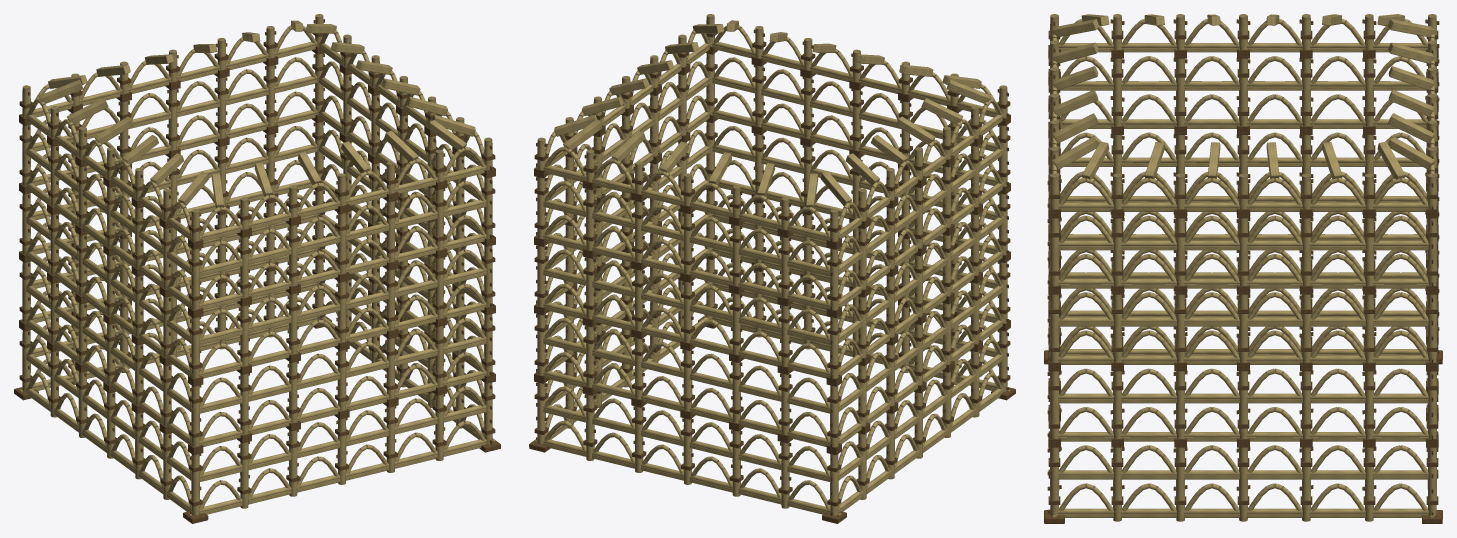
3 views of the same model, side by side, from view 1: azimuth 30°, elevation 25°; view 2: azimuth 150°, elevation 25°; view 3: azimuth 270°, elevation 25° (orthographic). The views are drawn at different scales.
Visible parts, largest first — view 1: no part large enough to name; view 2: no part large enough to name; view 3: Crown petal 2-0, Crown petal 0-5, Tier 0 side 1 post 1, Tier 0 side 1 post 2, Tier 0 side 1 post 3, Tier 0 side 1 post 4, Tier 0 side 1 post 5, Crown petal 0-4, Crown petal 2-1, Crown petal 2-2, Tier 1 side 1 post 0, Tier 2 side 1 post 0 (+35 smaller).
Boxes of the visible parts, box(x1,y1,x2,y2) form: Crown petal 2-0: box(1388, 137, 1434, 169); Crown petal 0-5: box(1052, 137, 1098, 169); Tier 0 side 1 post 1: box(1113, 447, 1121, 521); Tier 0 side 1 post 2: box(1176, 447, 1184, 521); Tier 0 side 1 post 3: box(1239, 447, 1247, 521); Tier 0 side 1 post 4: box(1302, 447, 1310, 521); Tier 0 side 1 post 5: box(1365, 447, 1373, 521); Crown petal 0-4: box(1052, 113, 1098, 143); Crown petal 2-1: box(1388, 113, 1434, 143); Crown petal 2-2: box(1388, 89, 1433, 116); Tier 1 side 1 post 0: box(1050, 371, 1059, 438); Tier 2 side 1 post 0: box(1050, 294, 1059, 362).
Size of the model in its own units: 2.85 by 2.84 by 2.85.
2 materials, 2 textured.
